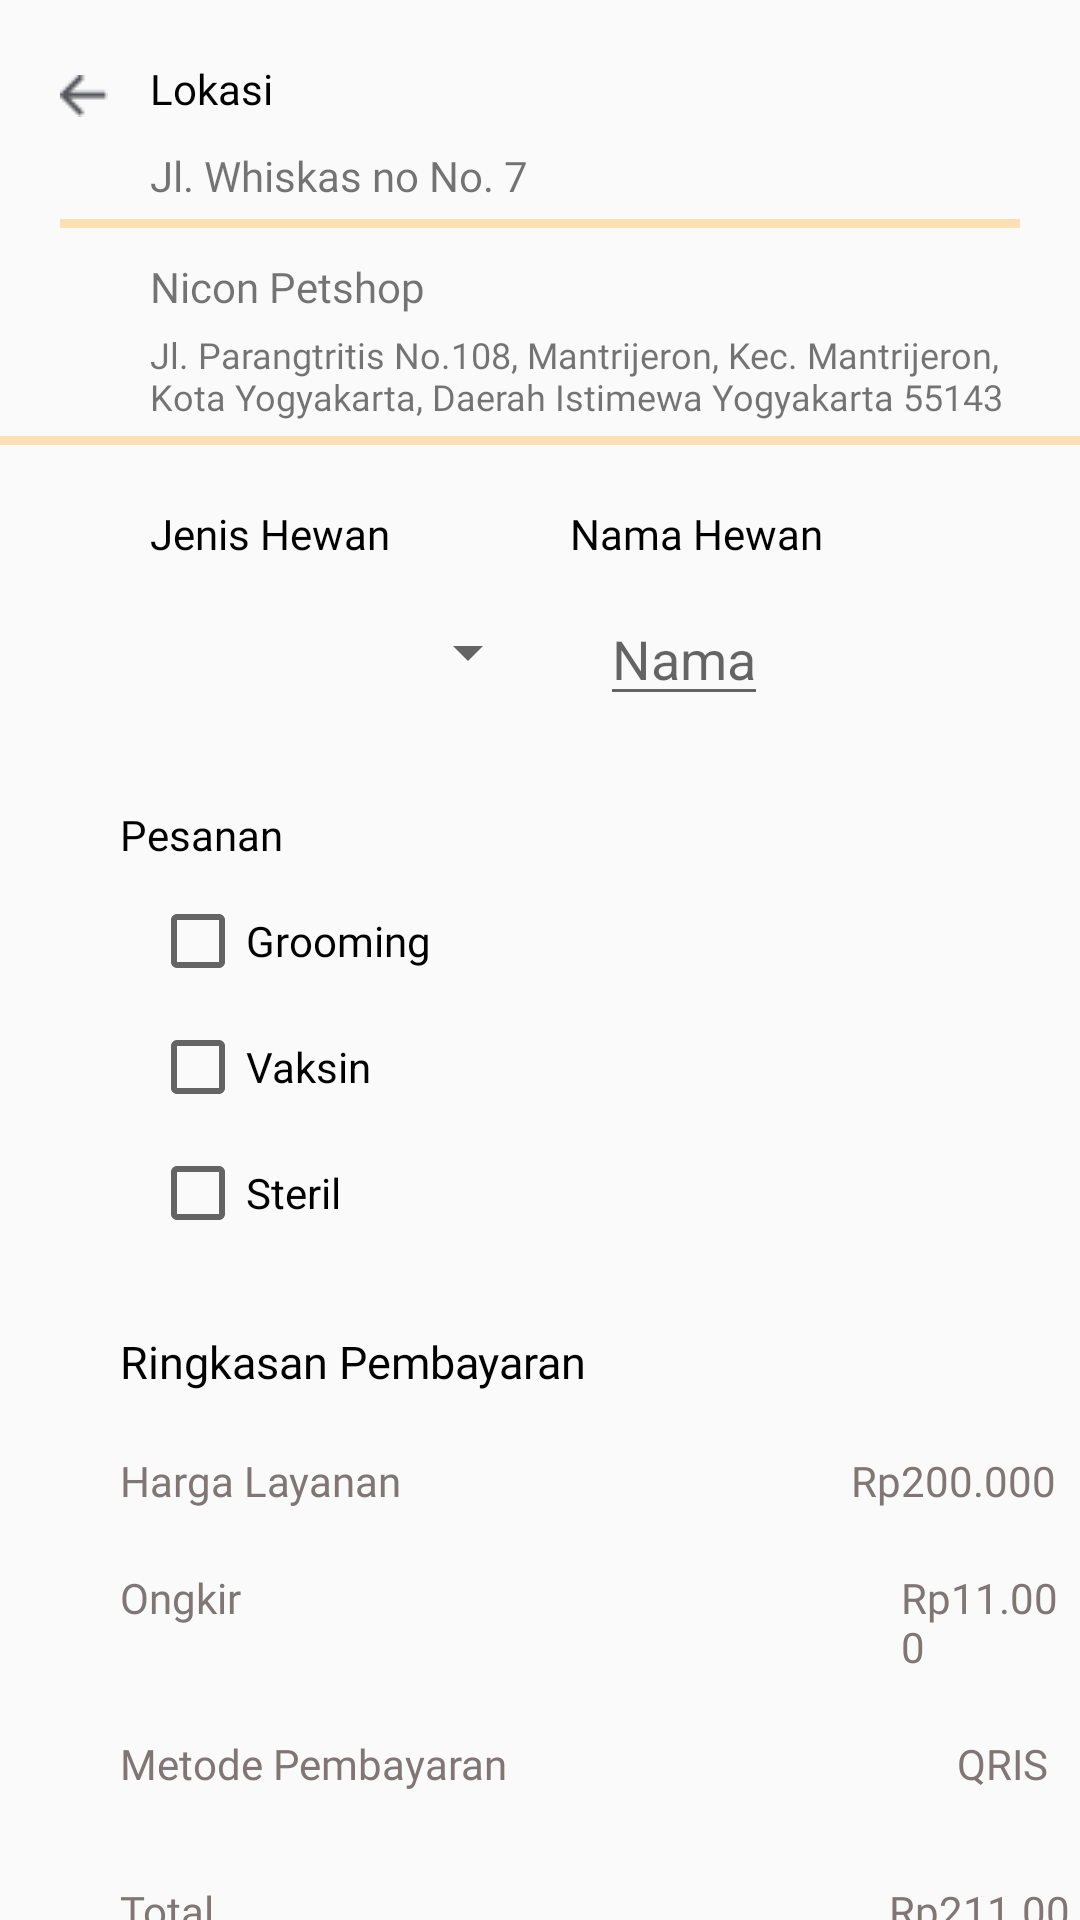

Locate icon controls on the screen. Image size 1080w x 1920h, boxes as detection(x1, y1, x2, y2).
panah: detection(60, 75, 108, 117)
